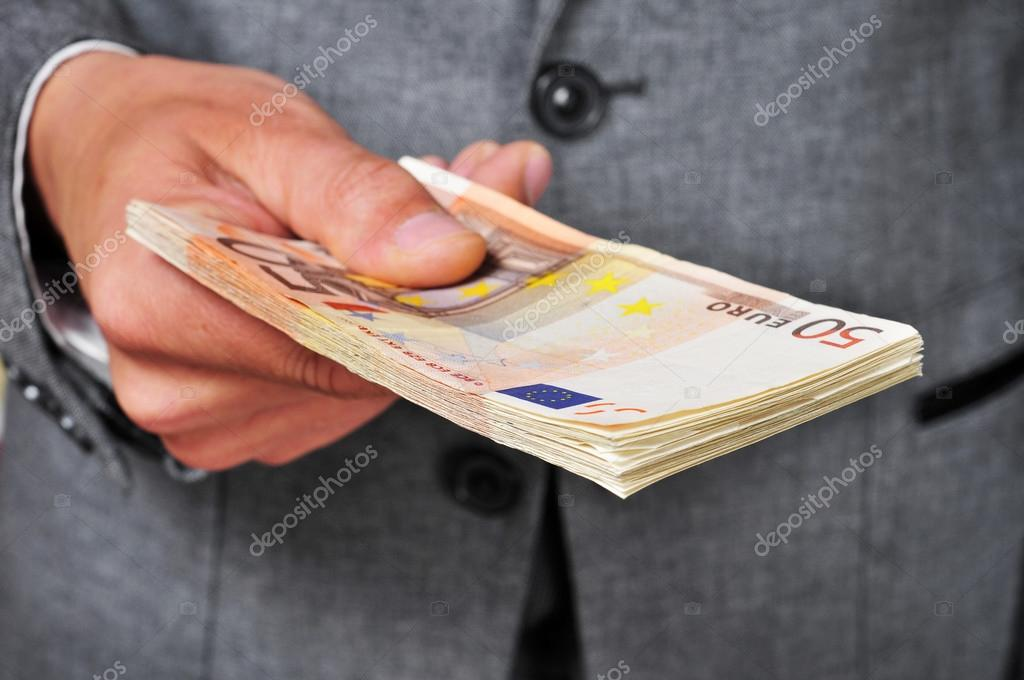billete: (122, 154, 930, 504)
